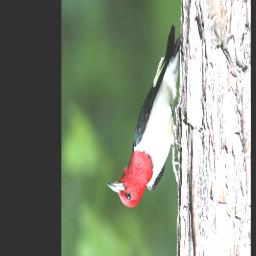Woodpecker: (105, 25, 185, 208)
